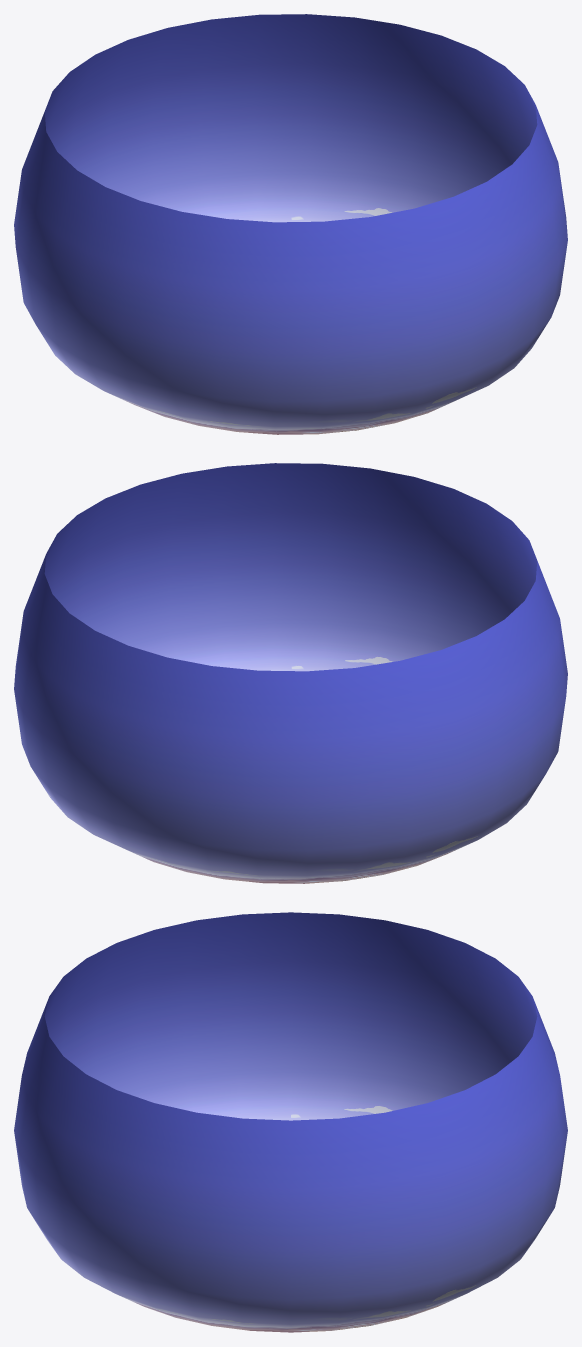
Rendered from scene_malujiakuangdao_sky01.FBX.
The picture shows the model from 3 angles, top to bottom: view 1: azimuth 30°, elevation 25°; view 2: azimuth 150°, elevation 25°; view 3: azimuth 270°, elevation 25°; orthographic projection.
Visible parts, largest first — view 1: scene_malujiakuangdao_sky01; view 2: scene_malujiakuangdao_sky01; view 3: scene_malujiakuangdao_sky01.
Part boxes in pixels (x1=…): scene_malujiakuangdao_sky01: x1=14, y1=14, x2=567, y2=434; scene_malujiakuangdao_sky01: x1=14, y1=463, x2=567, y2=883; scene_malujiakuangdao_sky01: x1=14, y1=912, x2=567, y2=1332.
Size of the model in its own units: 16941 by 8243 by 16941.
